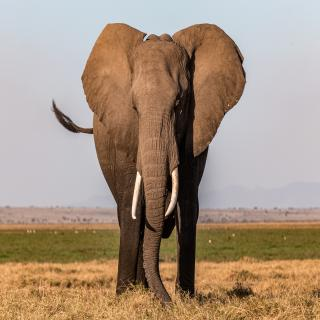Elephant: (48, 16, 249, 310)
